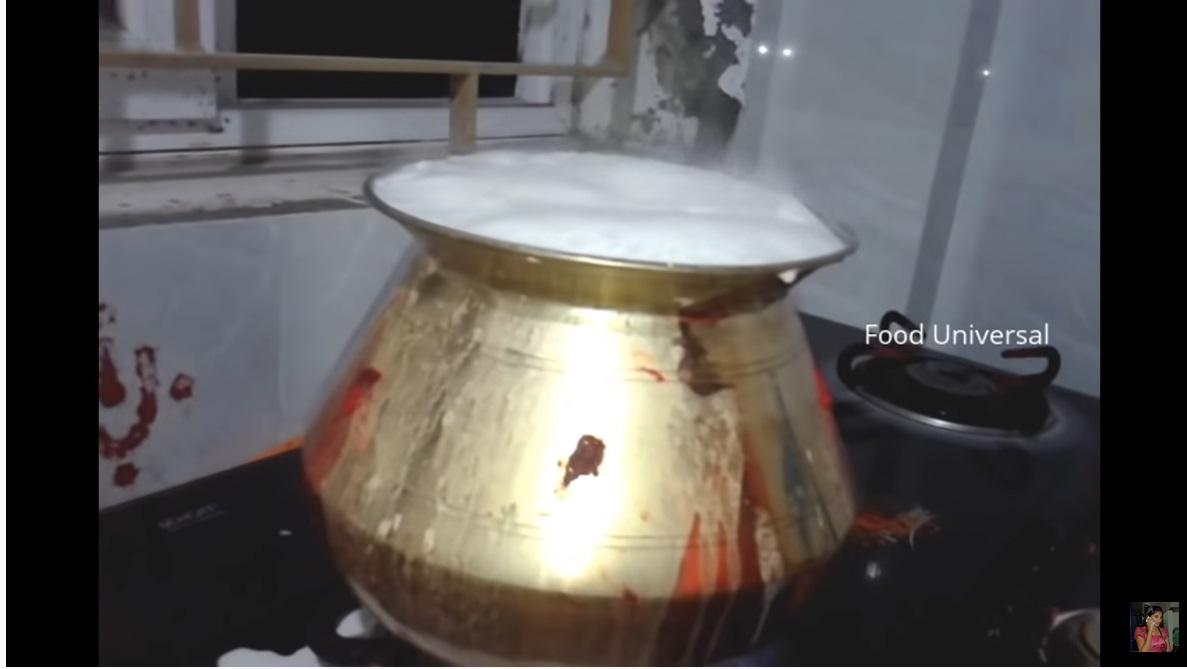Boiled: (247, 145, 918, 575)
